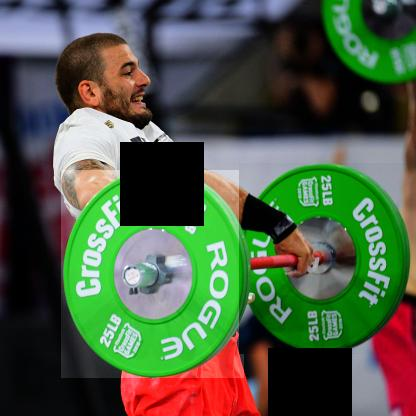barbell: (62, 171, 245, 379), (240, 164, 408, 355)
